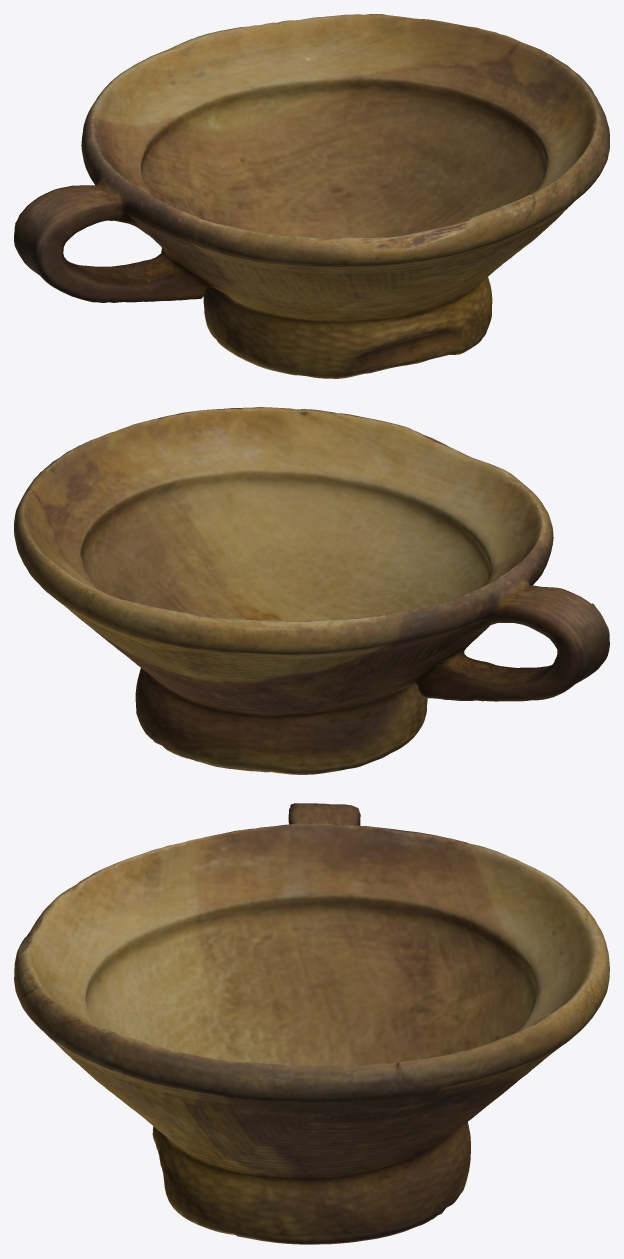
Rendered from wooden-bowl.gltf.
3 views of the same model, one above another, from view 1: azimuth 30°, elevation 25°; view 2: azimuth 150°, elevation 25°; view 3: azimuth 270°, elevation 25° (orthographic). The views are drawn at different scales.
Visible parts, largest first — view 1: wooden-bowl-optimised; view 2: wooden-bowl-optimised; view 3: wooden-bowl-optimised.
Part boxes in pixels (x1,y1,x2,y2): wooden-bowl-optimised: [14, 14, 609, 378]; wooden-bowl-optimised: [14, 407, 609, 774]; wooden-bowl-optimised: [14, 803, 609, 1244].
Bounding box in the file's own units: 20.15 × 7.24 × 16.62.
Materials: 1 (1 with a texture image).
